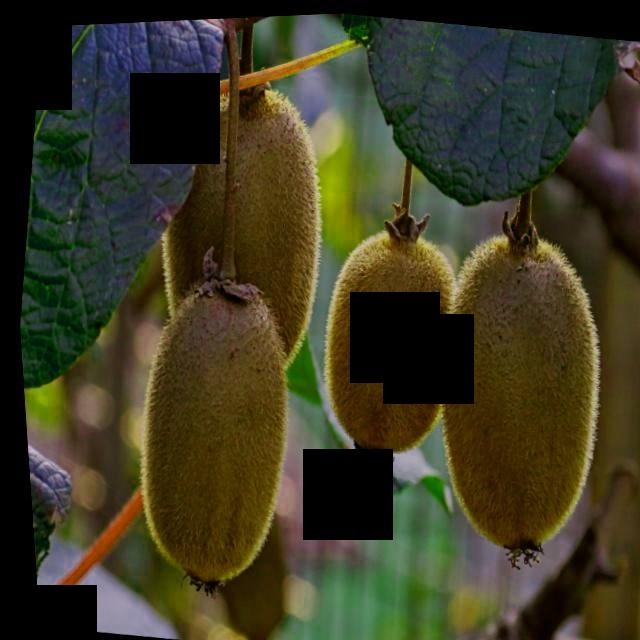kiwi: (406, 213, 628, 579), (129, 59, 350, 397), (105, 263, 311, 604), (298, 207, 475, 483)
